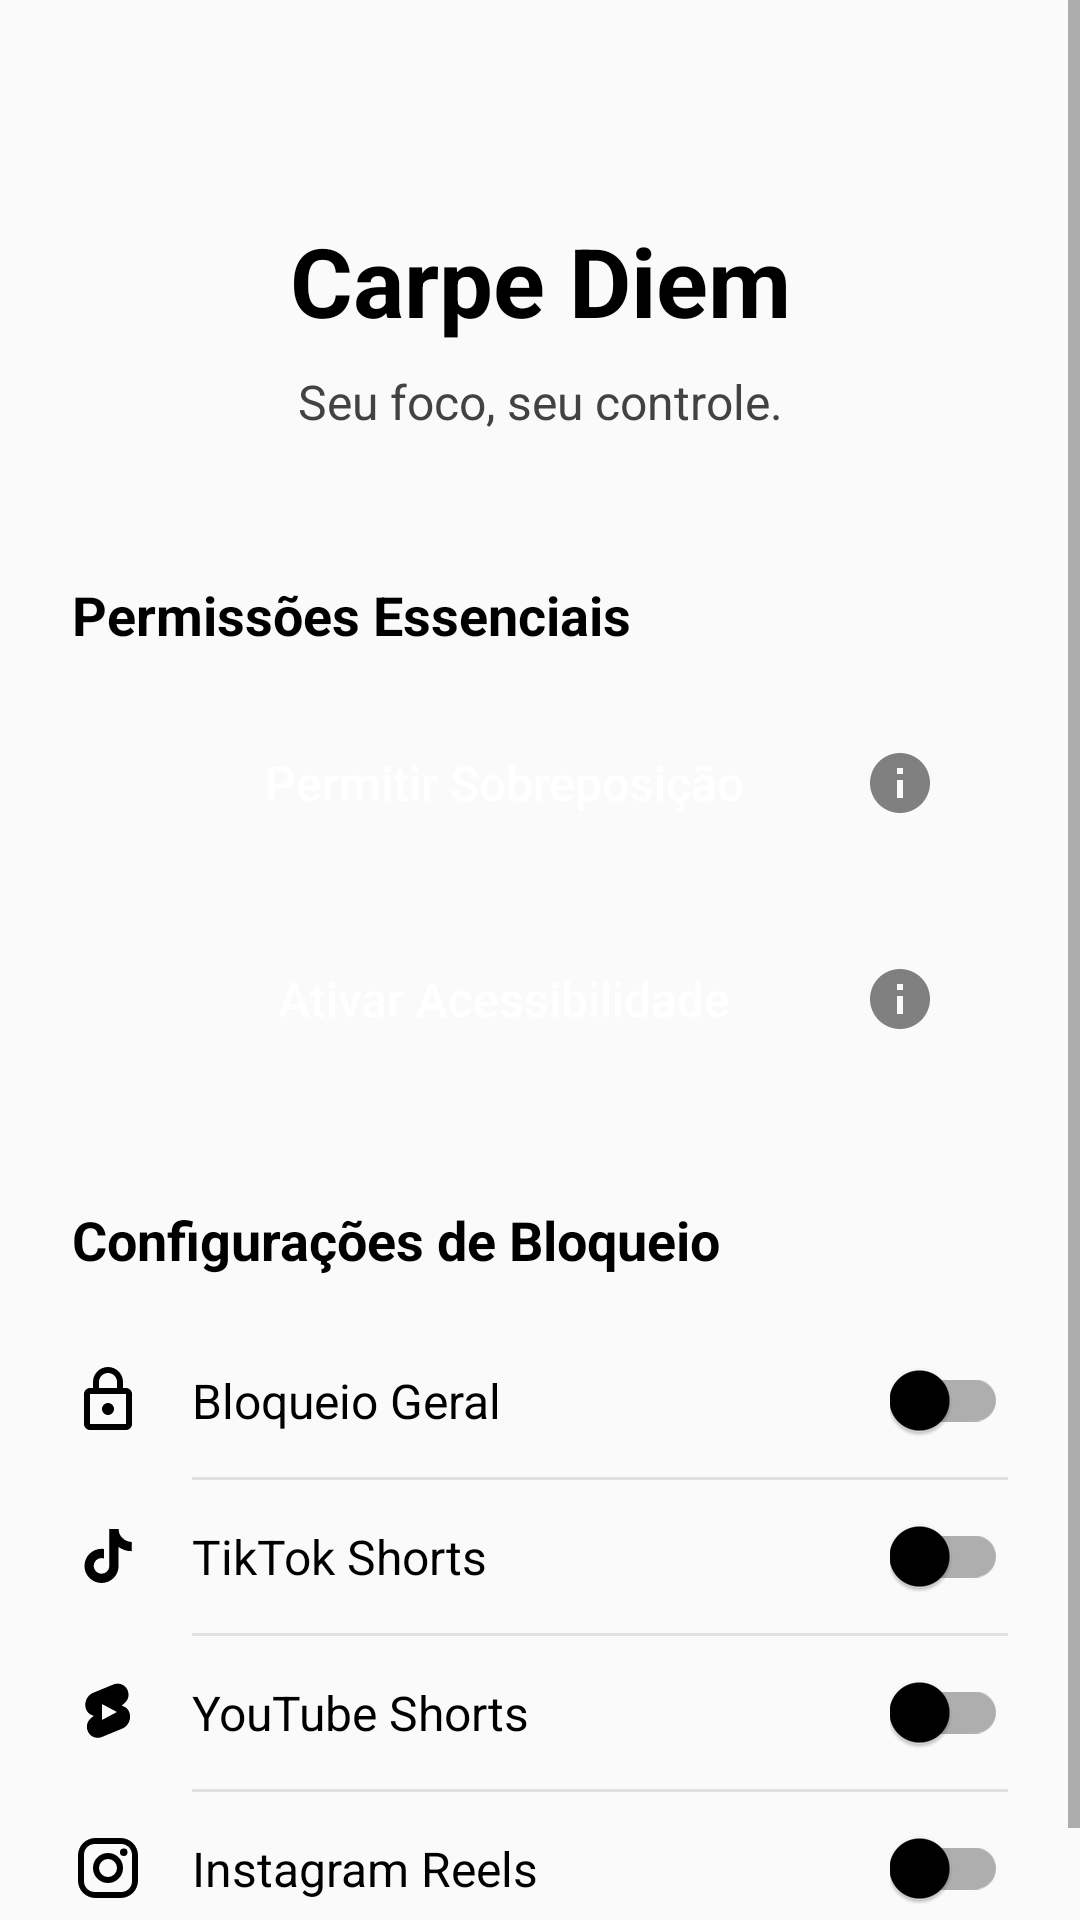

Point at icon controls on the screen. Image size 1080 × 1920, points as (x,y).
lock: (108,1398)
